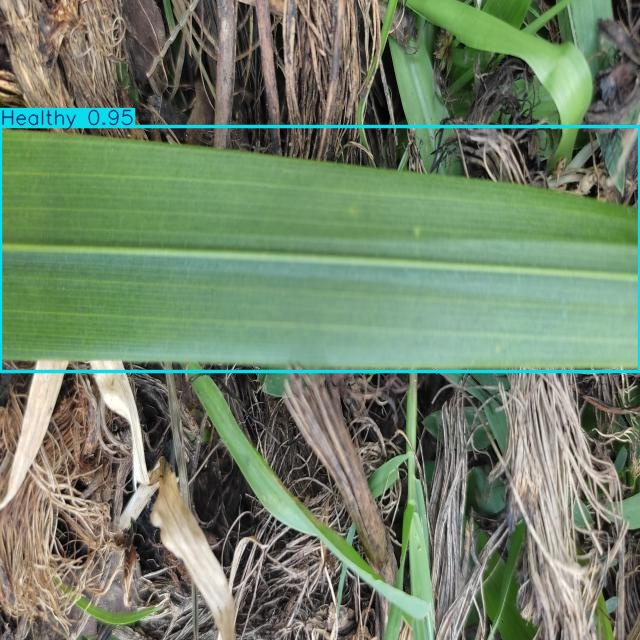Healthy: (0, 126, 640, 372)
